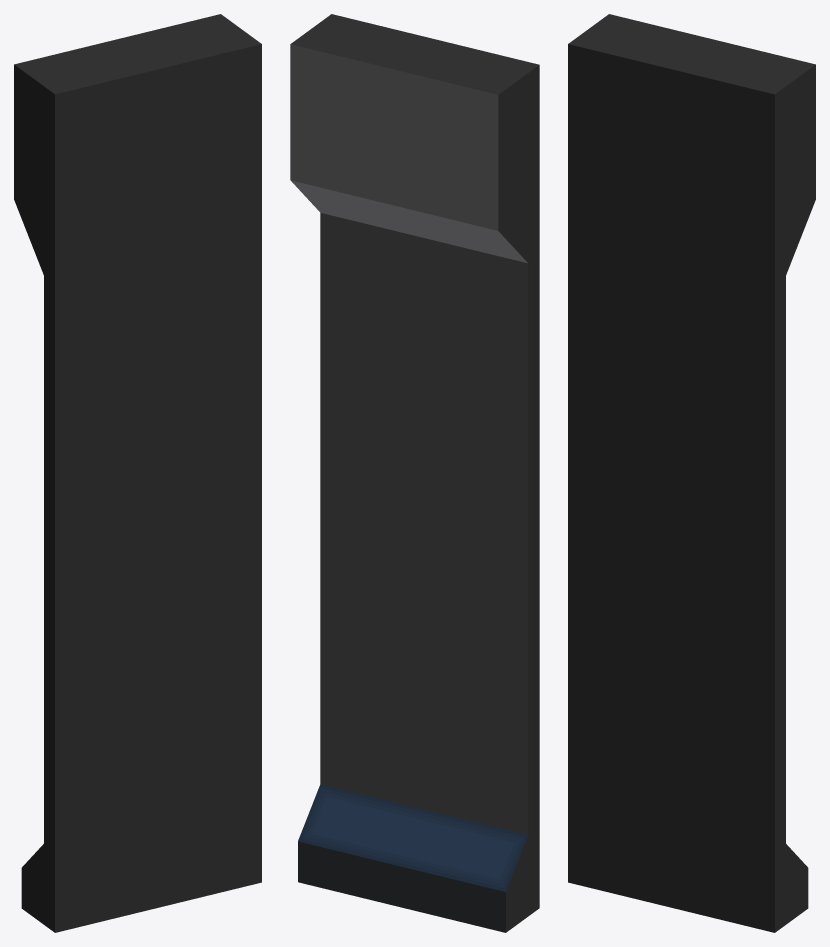
Rendered from CalShipCargoWall1.gltf.
The picture shows the model from 3 angles, left to right: view 1: azimuth 30°, elevation 25°; view 2: azimuth 150°, elevation 25°; view 3: azimuth 330°, elevation 25°; orthographic projection.
Visible parts, largest first — view 1: mesh; view 2: mesh; view 3: mesh.
Boxes of the visible parts, left/top/right/bottom form: mesh: left=14, top=14, right=261, bottom=932; mesh: left=290, top=14, right=539, bottom=932; mesh: left=568, top=14, right=815, bottom=932.
Size of the model in its own units: 1 by 3.88 by 0.3438.
1 material, 1 textured.
